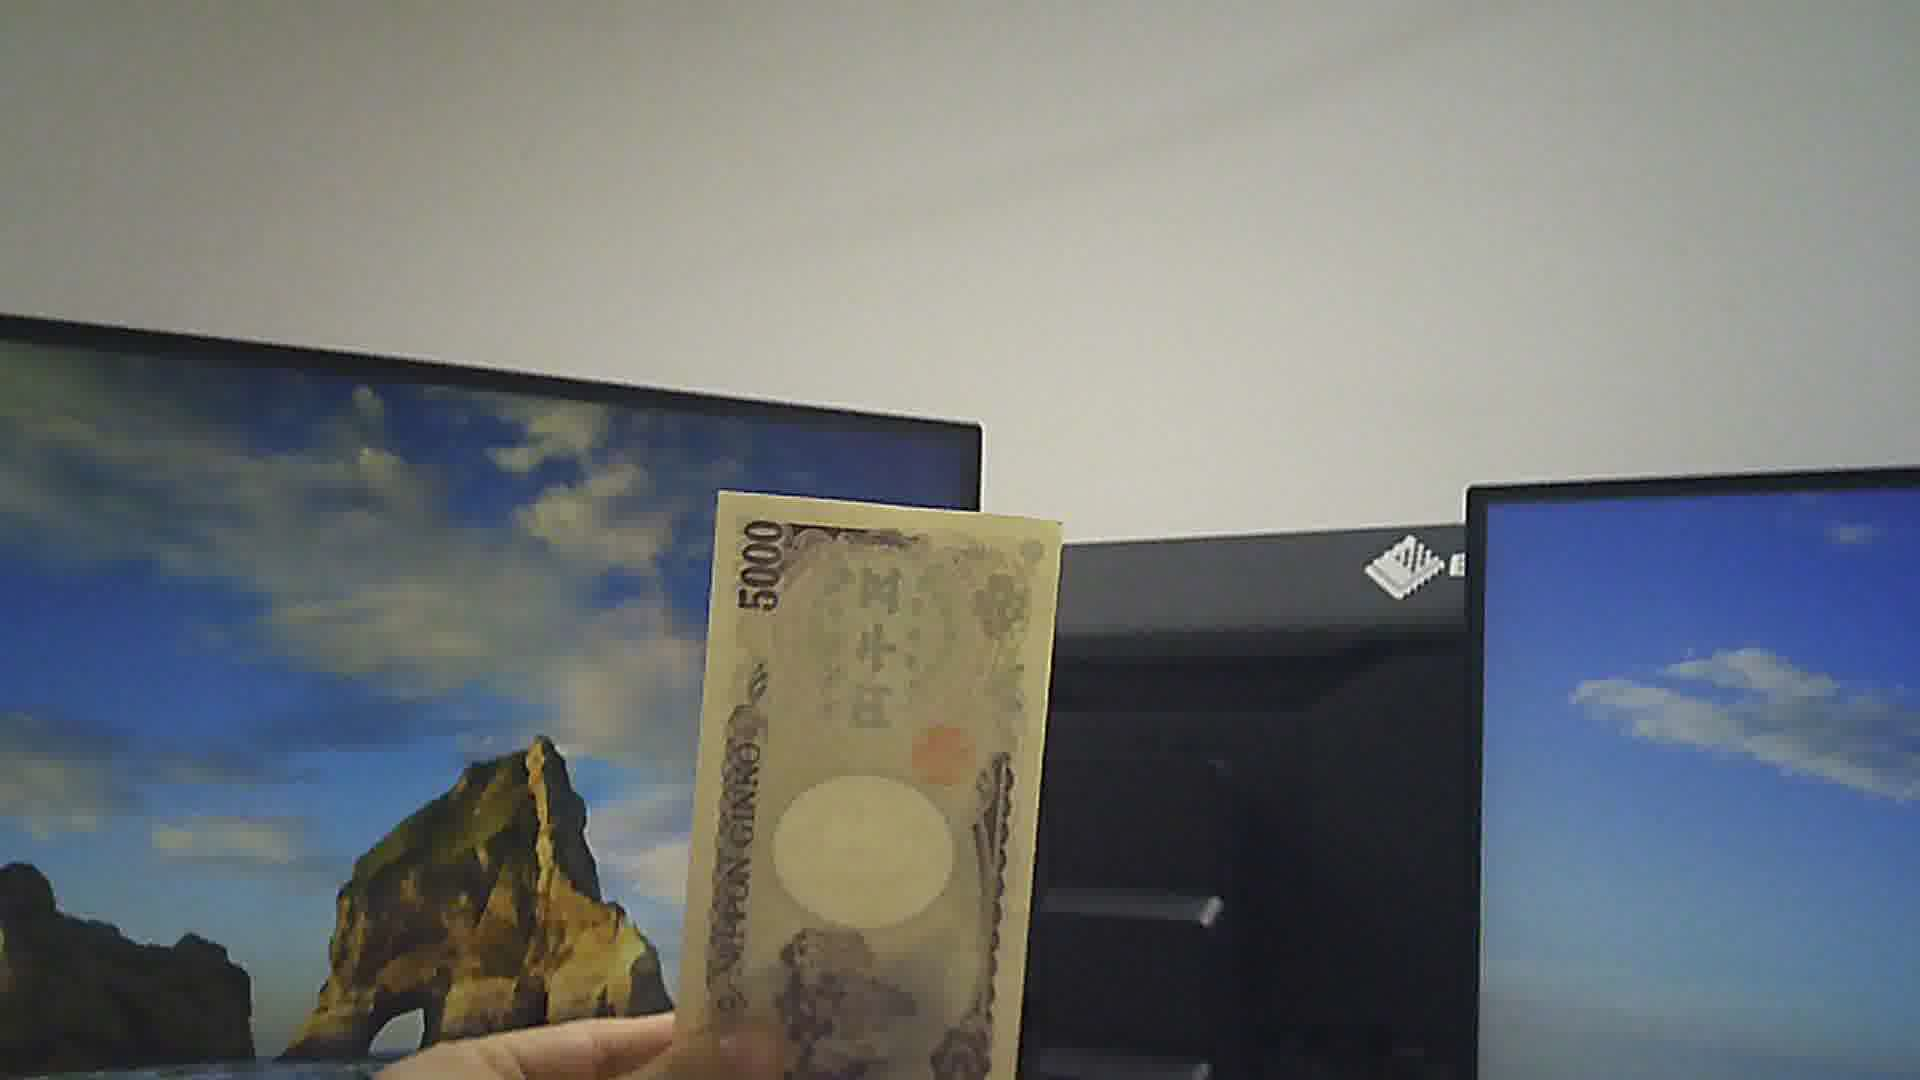5,000 Yen: (675, 473, 1064, 1079)
